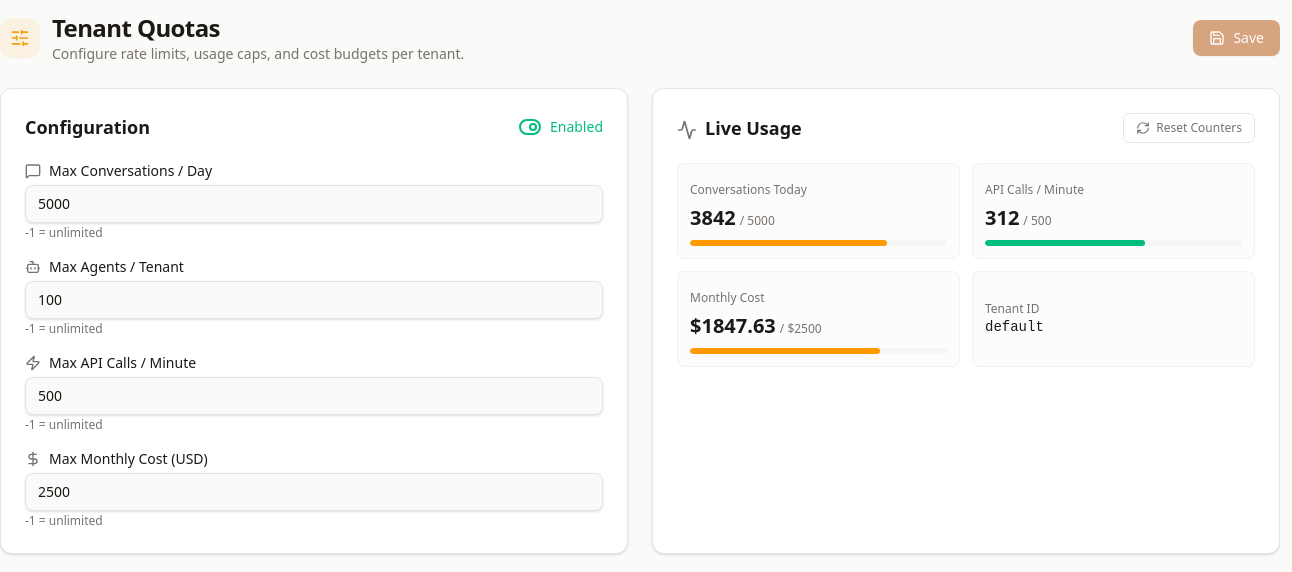
Scenario: QuotasPage › saves quota changes via PUT
The image size is (1292, 572).
# Change a field to make dirty
Step 1. Replace the text in the number field with test id "quota-max-conversations" with "1000" → (314, 204), box 25,185 -> 603,223
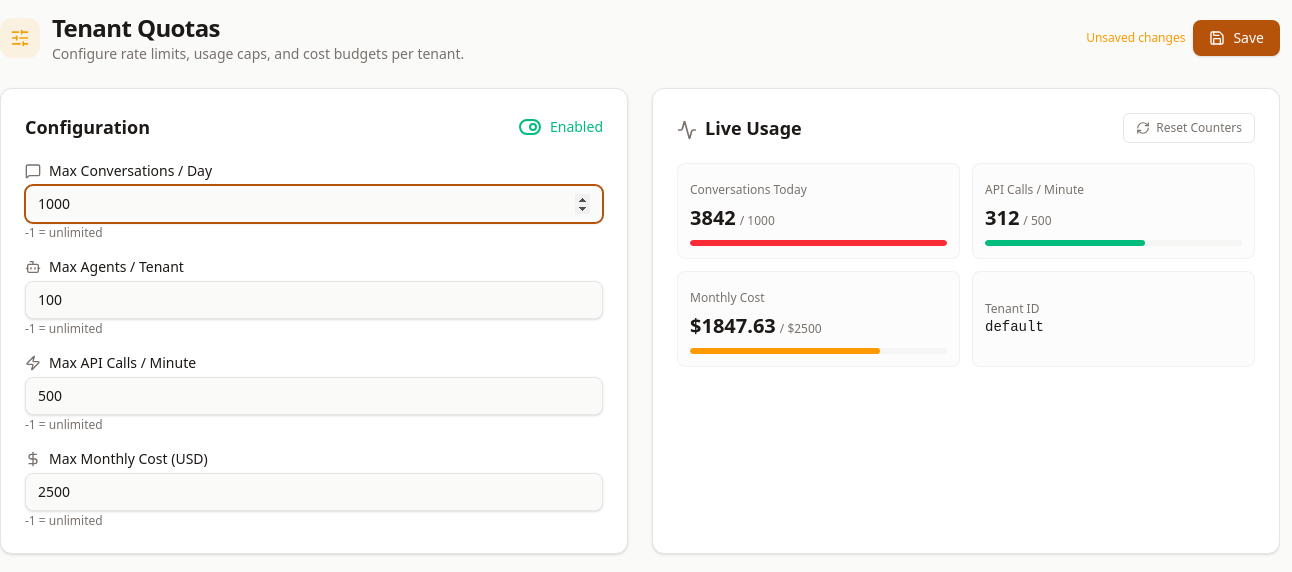
# Click save
Step 2. Click the button with test id "quotas-save" → (1237, 38), box 1193,20 -> 1280,56
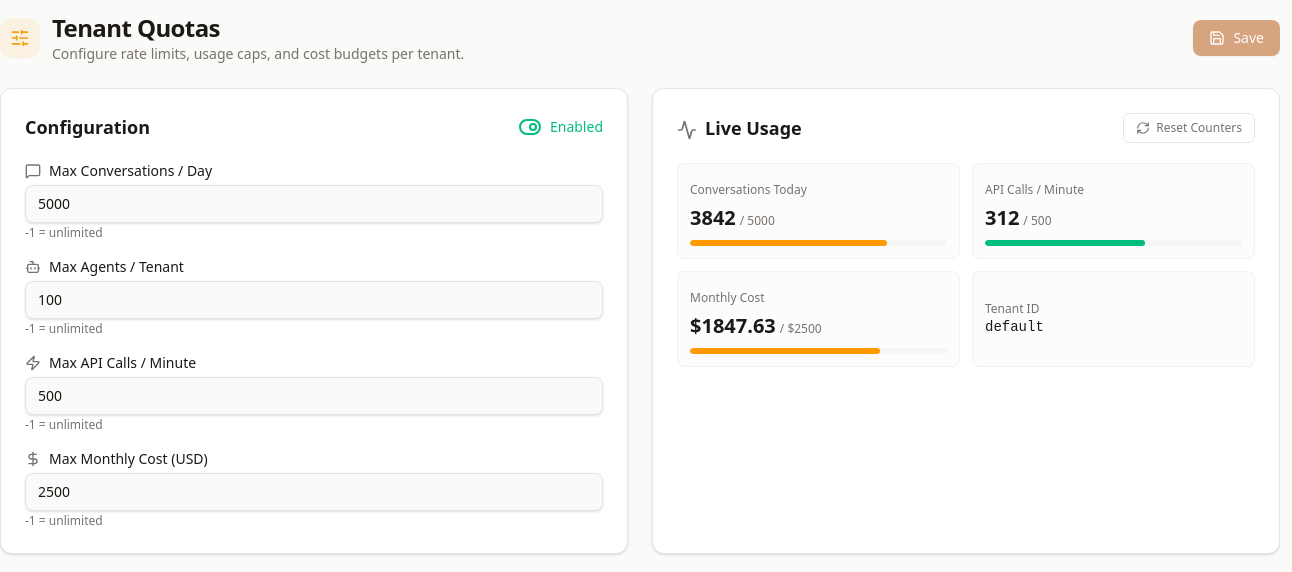
Now the text with test id "quotas-dirty-indicator" is gone
